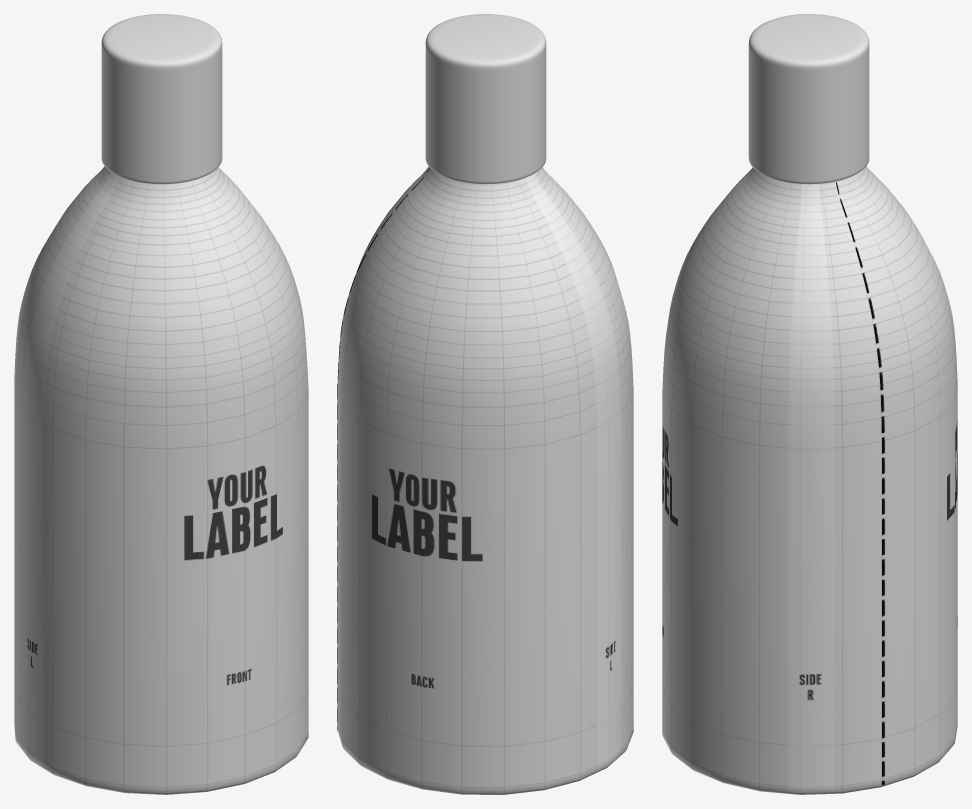
Rendered from SOAP-TURBOSQUID-ID003_v1.gltf.
The picture shows the model from 3 angles, left to right: view 1: azimuth 30°, elevation 25°; view 2: azimuth 150°, elevation 25°; view 3: azimuth 270°, elevation 25°; orthographic projection.
Visible parts, largest first — view 1: Obj.006; view 2: Obj.006; view 3: Obj.006.
Part boxes in pixels (left/top/right/bottom): Obj.006: left=14, top=14, right=308, bottom=794; Obj.006: left=337, top=14, right=633, bottom=794; Obj.006: left=662, top=14, right=957, bottom=794.
Size of the model in its own units: 0.0756 by 0.1987 by 0.0755.
Materials: 2 (1 with a texture image).
